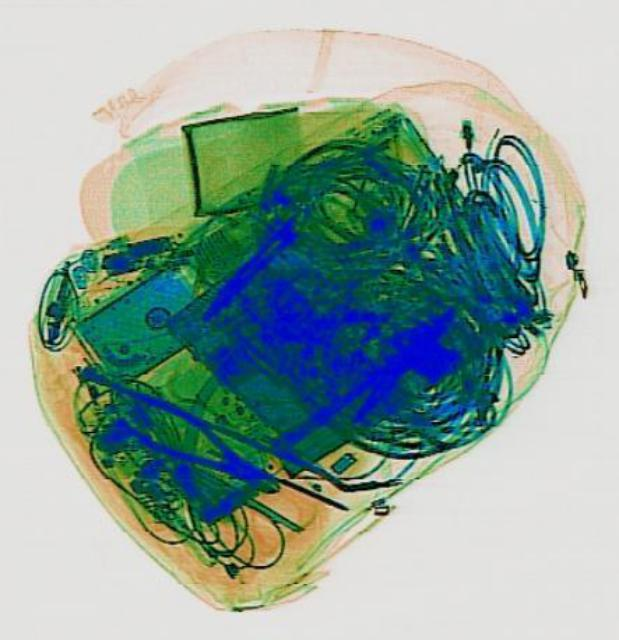Pliers: (111, 384, 288, 508)
